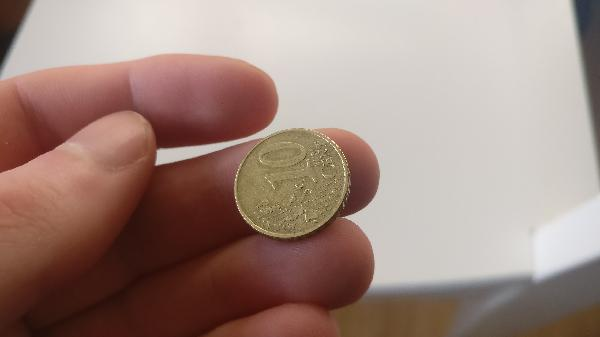Ten Cent: (233, 128, 357, 239)
